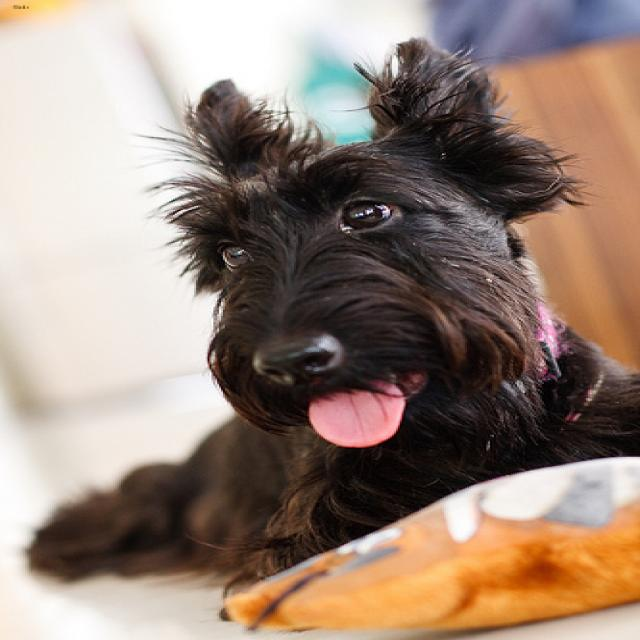dog-scottish_terrier: (10, 31, 636, 598)
